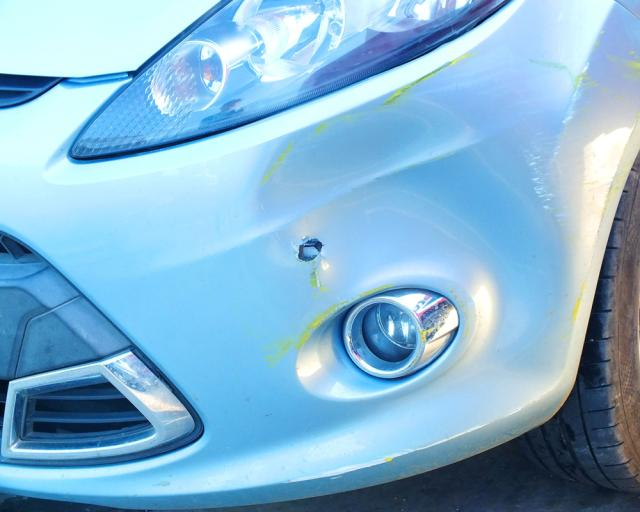dent: (263, 102, 568, 400)
scratch: (380, 23, 640, 329), (268, 263, 399, 372)
